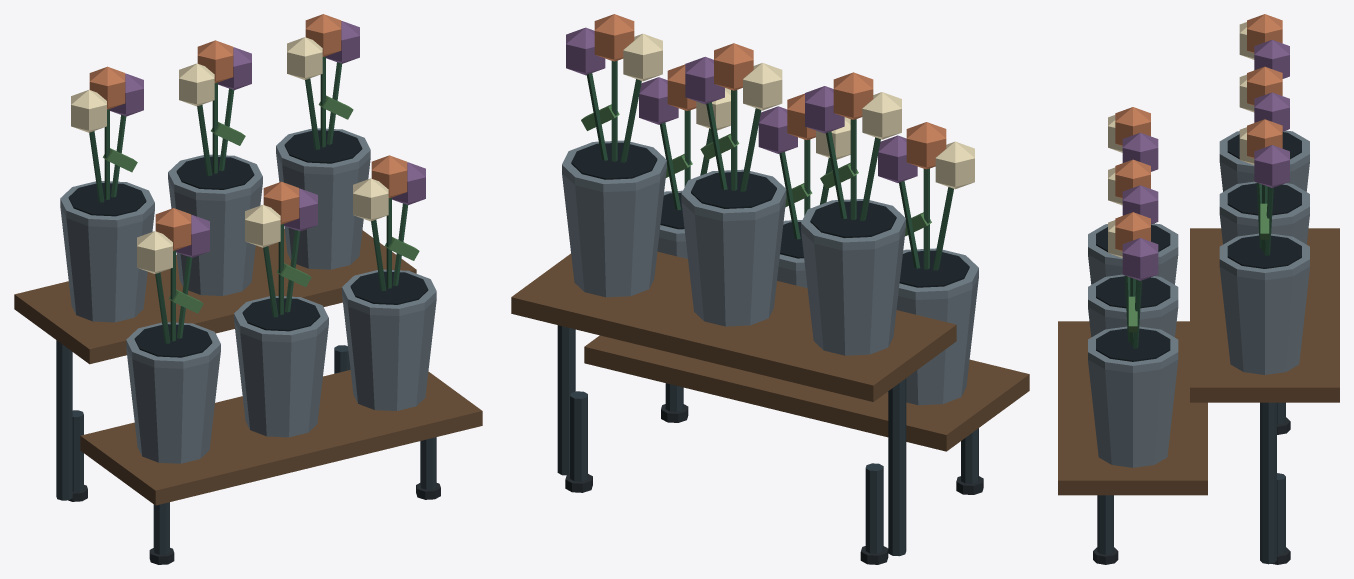
The model's file is b10_florist_bucket_sidewalk_display.glb.
3 renders of one model, left to right at view 1: azimuth 30°, elevation 25°; view 2: azimuth 150°, elevation 25°; view 3: azimuth 270°, elevation 25°, orthographic. The views are drawn at different scales.
Parts seen in each view (by area): view 1: b10_florist_bucket_sidewalk_display; view 2: b10_florist_bucket_sidewalk_display; view 3: b10_florist_bucket_sidewalk_display.
Part boxes in pixels (x1,y1,x2,y2): b10_florist_bucket_sidewalk_display: [14, 14, 482, 564]; b10_florist_bucket_sidewalk_display: [511, 14, 1029, 564]; b10_florist_bucket_sidewalk_display: [1058, 14, 1339, 564].
Size of the model in its own units: 1.03 by 1.29 by 0.77.
